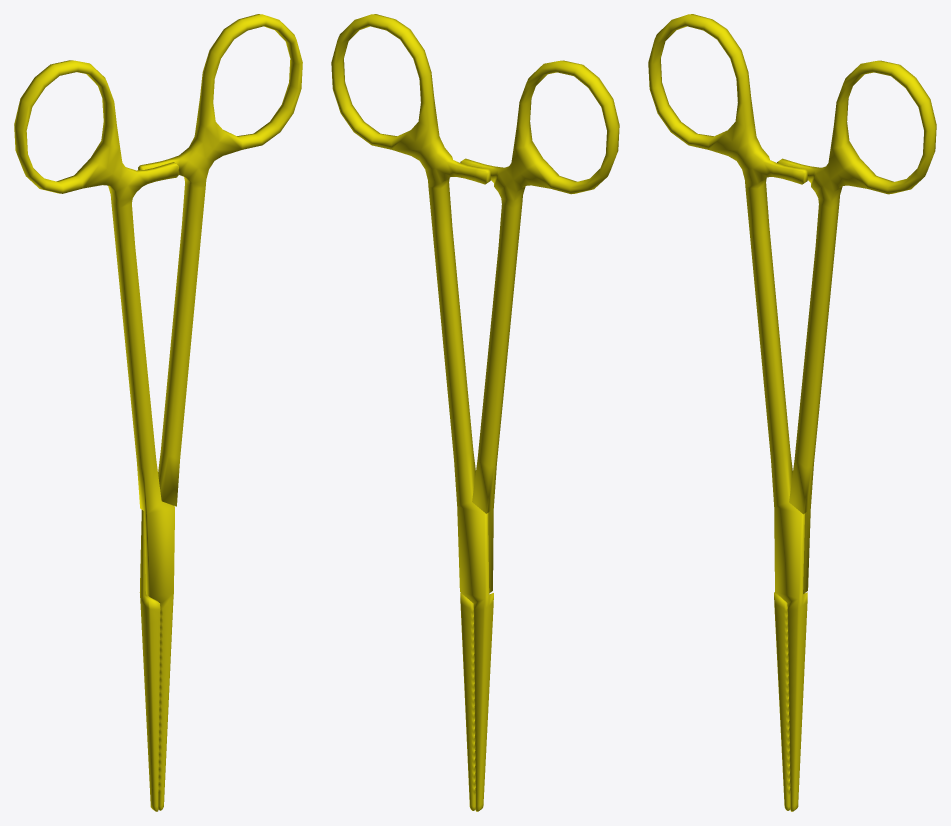
The model's file is scissor1.fbx.
3 views of the same model, side by side, from view 1: azimuth 30°, elevation 25°; view 2: azimuth 150°, elevation 25°; view 3: azimuth 330°, elevation 25° (orthographic).
Parts seen in each view (by area): view 1: Plane.002; view 2: Plane.002; view 3: Plane.002.
Boxes of the visible parts, box(x1,y1,x2,y2) form: Plane.002: box(14, 14, 302, 811); Plane.002: box(331, 14, 619, 811); Plane.002: box(648, 14, 936, 811).
Bounding box in the file's own units: 193 × 497 × 11.33.
